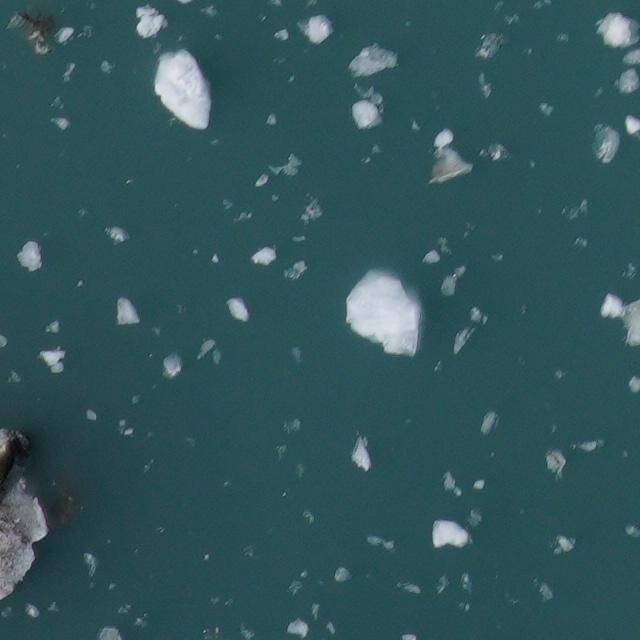seal: (0, 439, 16, 491)
